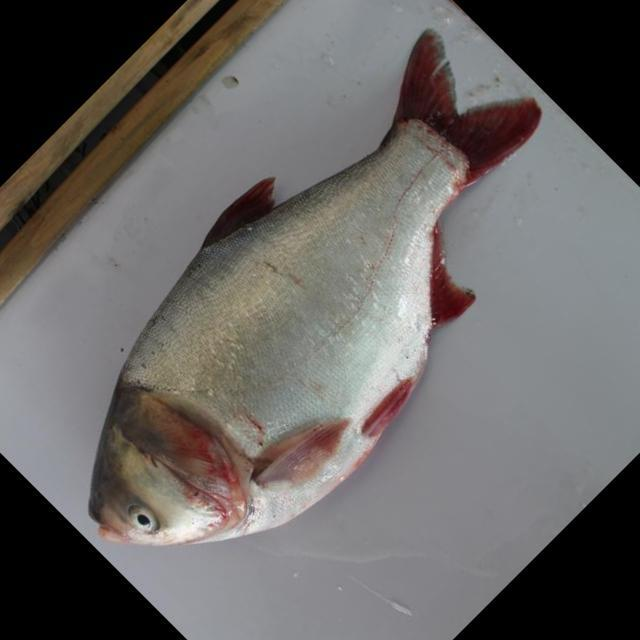SilverCarp: (106, 48, 507, 552)
